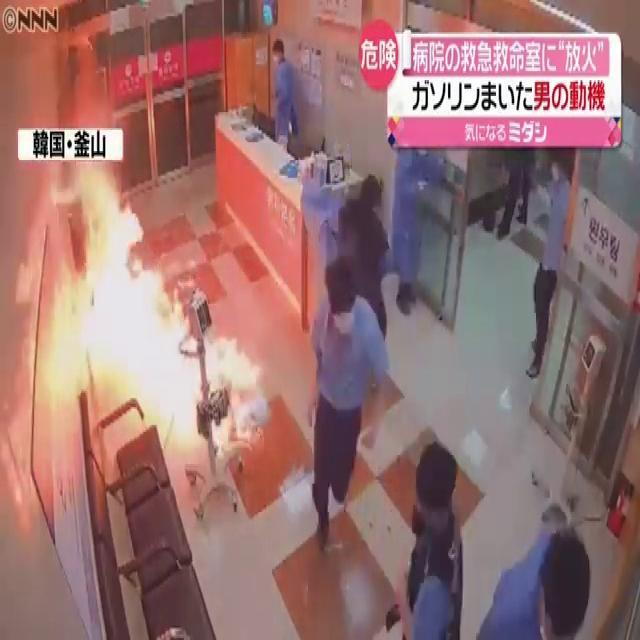Fire: (31, 155, 208, 449)
Smoke: (0, 1, 97, 214)
